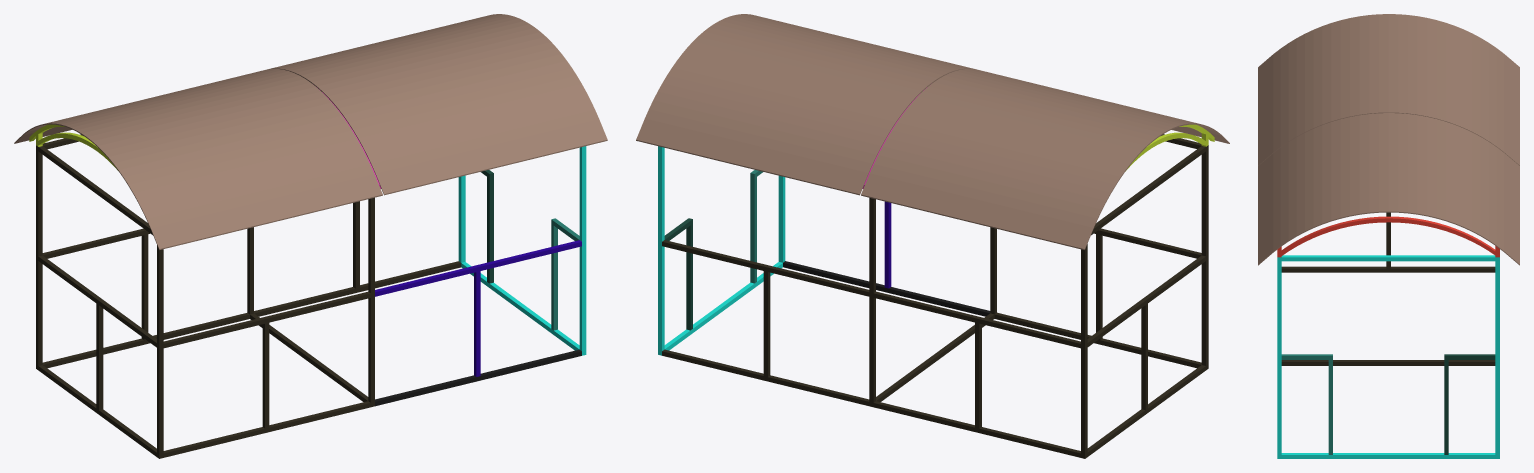
Rendered from proba.gltf.
The picture shows the model from 3 angles, left to right: view 1: azimuth 30°, elevation 25°; view 2: azimuth 150°, elevation 25°; view 3: azimuth 270°, elevation 25°; orthographic projection. The views are drawn at different scales.
Visible parts, largest first — view 1: 01pvc, default1, default0, 00roof; view 2: 01pvc, default1, default0, 00roof; view 3: 01pvc, default0, default1, 00roof.
Boxes of the visible parts, x1=… form: 01pvc: x1=14, y1=14, x2=607, y2=249; default1: x1=36, y1=134, x2=581, y2=458; default0: x1=458, y1=146, x2=586, y2=355; 00roof: x1=29, y1=89, x2=381, y2=188; 01pvc: x1=636, y1=14, x2=1229, y2=249; default1: x1=662, y1=134, x2=1208, y2=458; default0: x1=658, y1=146, x2=785, y2=355; 00roof: x1=862, y1=88, x2=1214, y2=188; 01pvc: x1=1258, y1=14, x2=1519, y2=265; default0: x1=1277, y1=255, x2=1499, y2=458; default1: x1=1281, y1=212, x2=1495, y2=365; 00roof: x1=1277, y1=216, x2=1499, y2=257.
Size of the model in its own units: 4.2 by 2.5 by 2.35.
